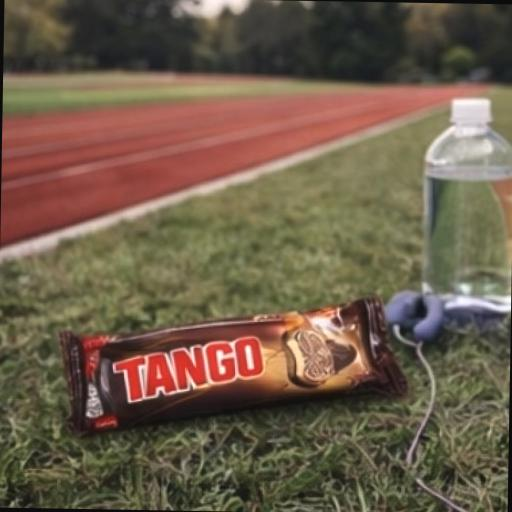tango: (40, 270, 430, 457)
